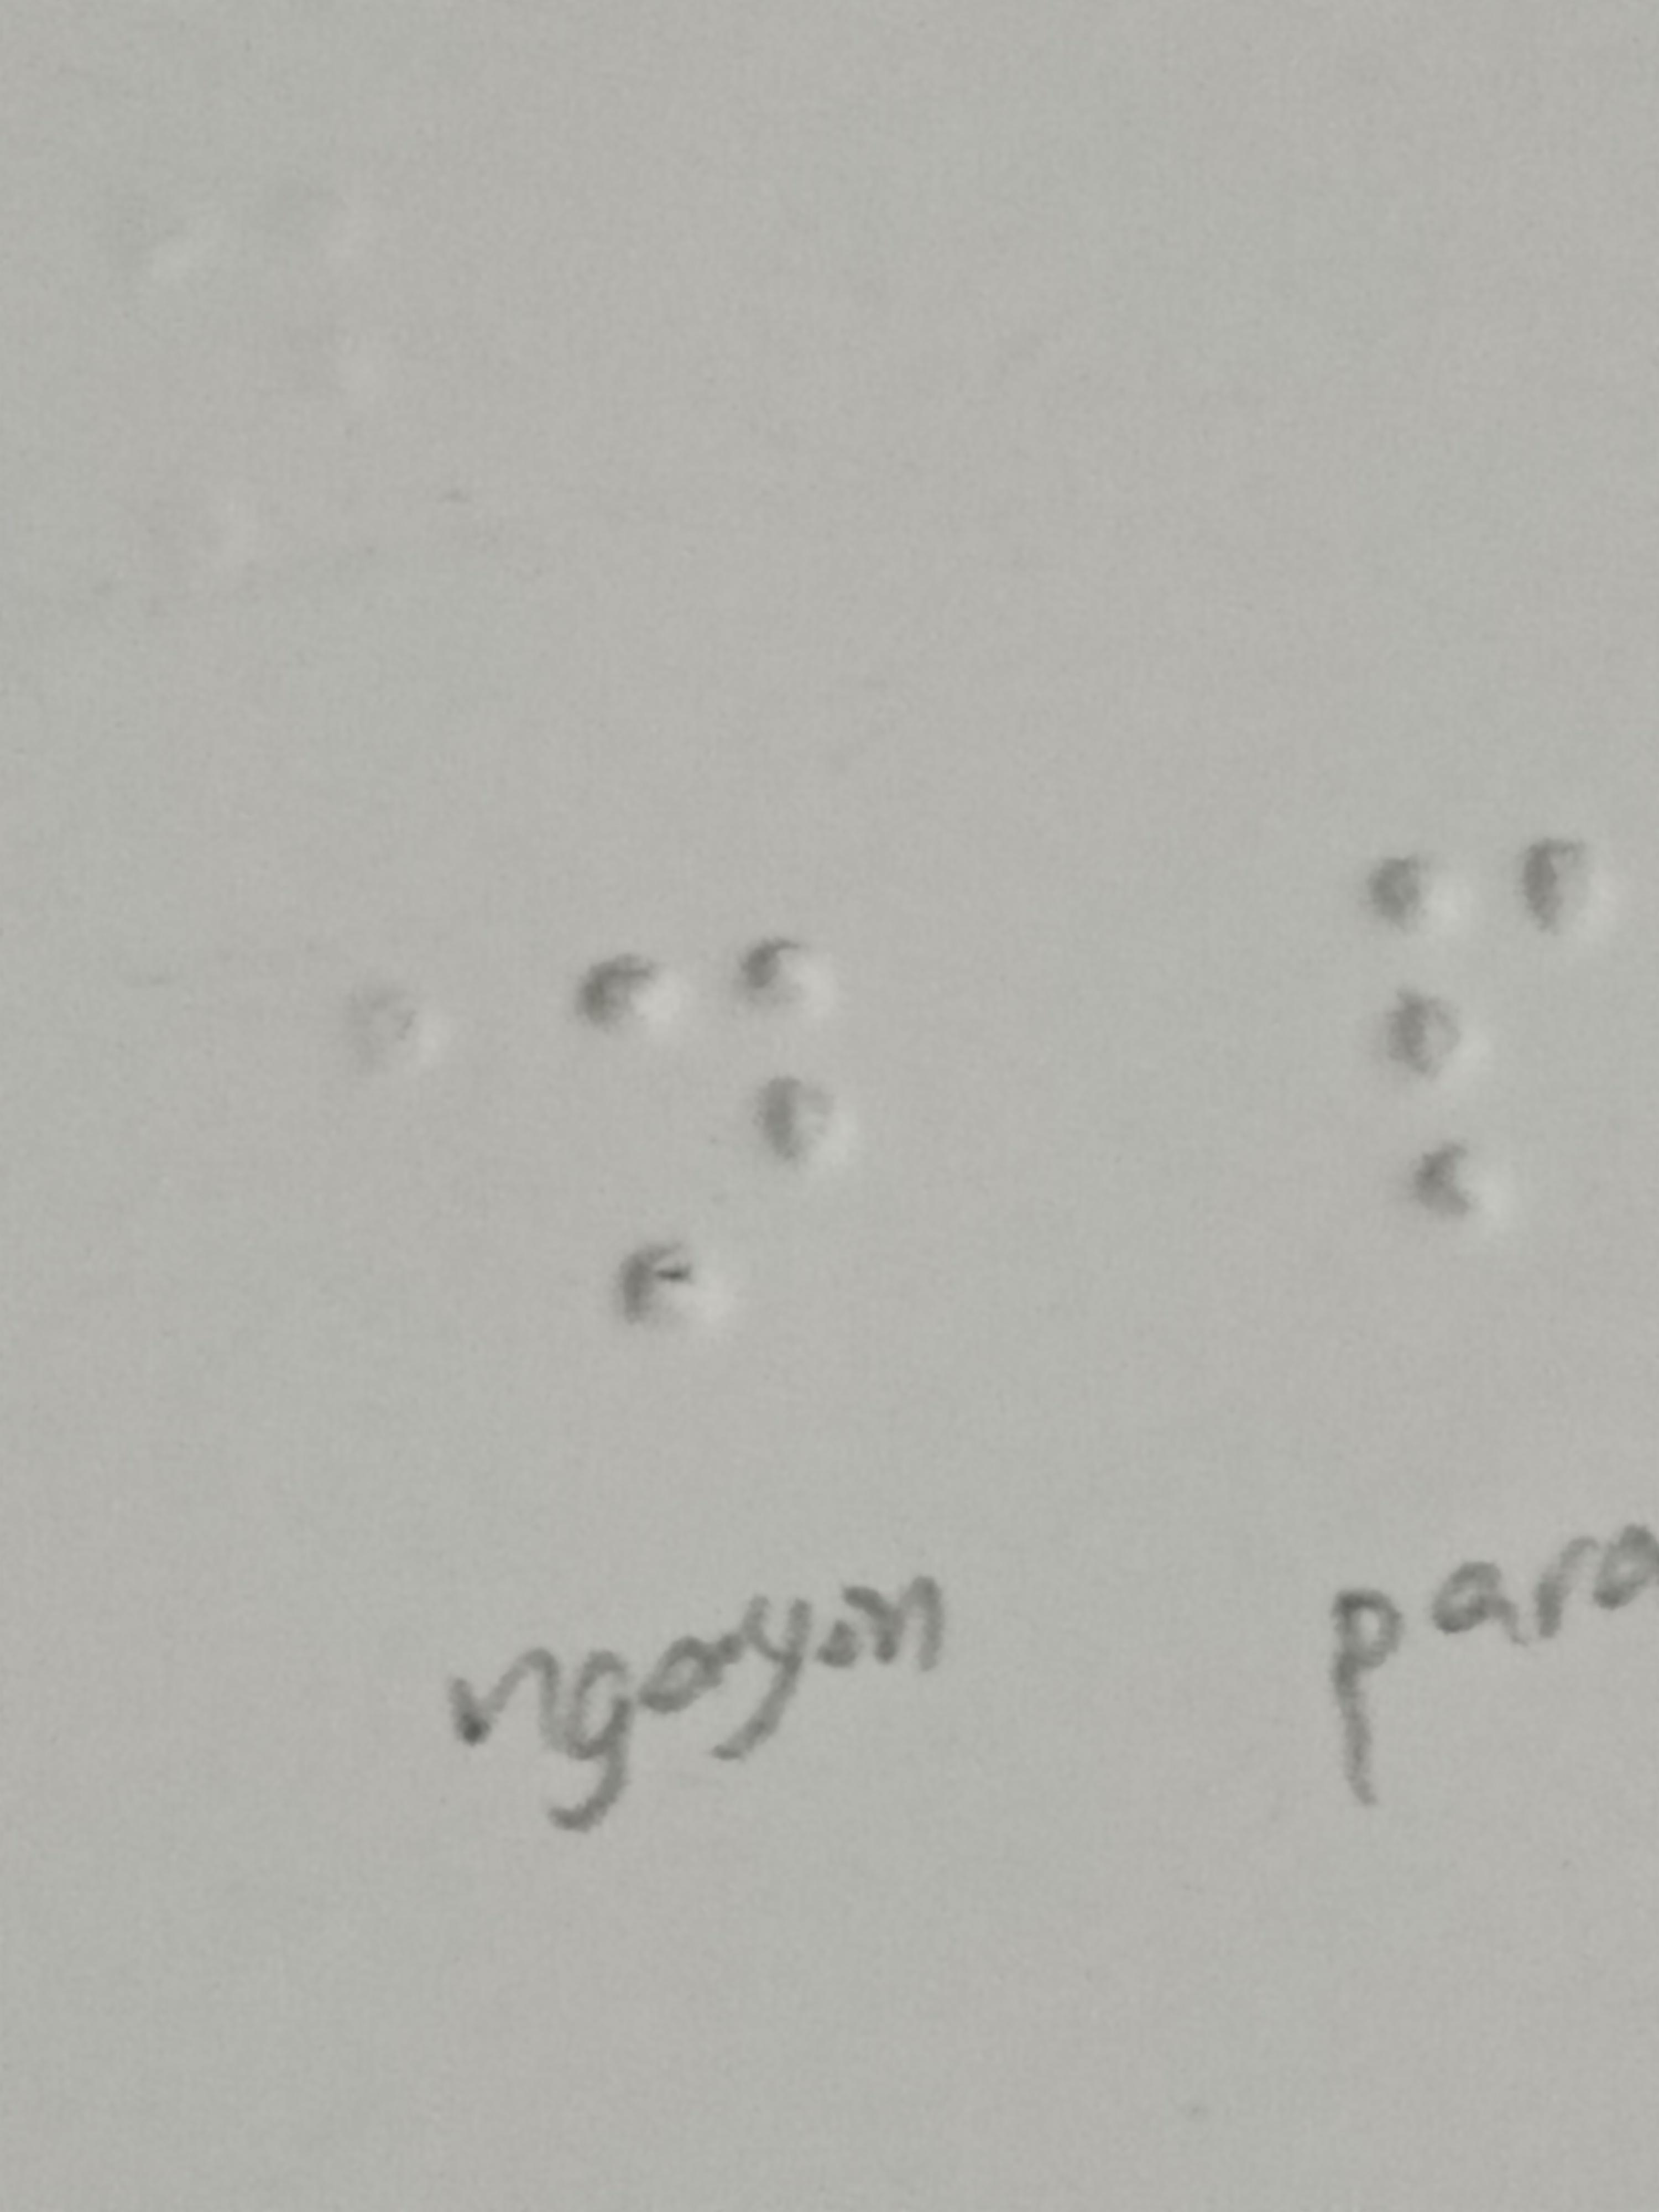one_cell_alphabet_ngayon: (577, 935, 863, 1343)
